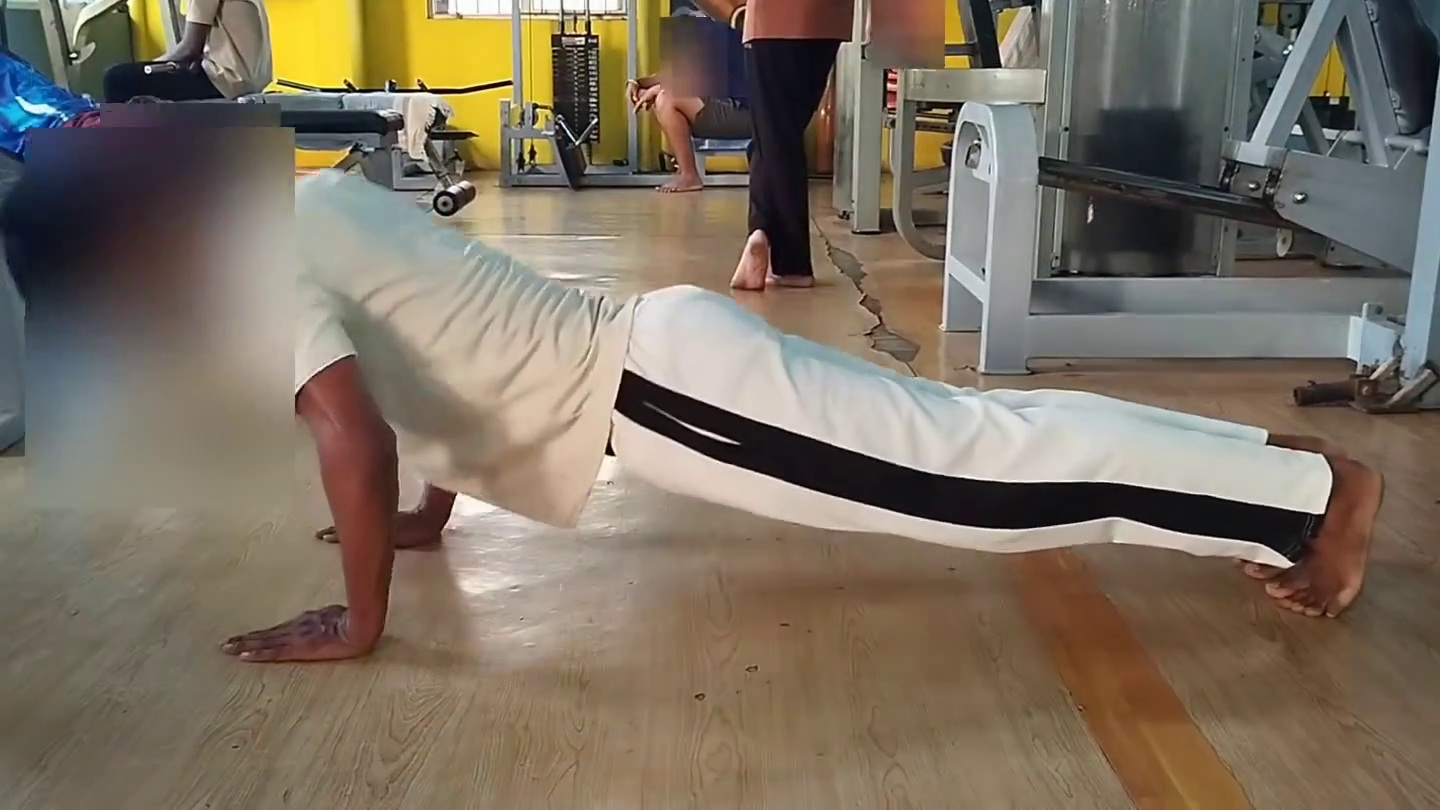push_up: (53, 115, 1422, 760)
